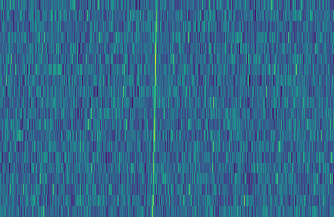signal: (147, 0, 160, 217)
